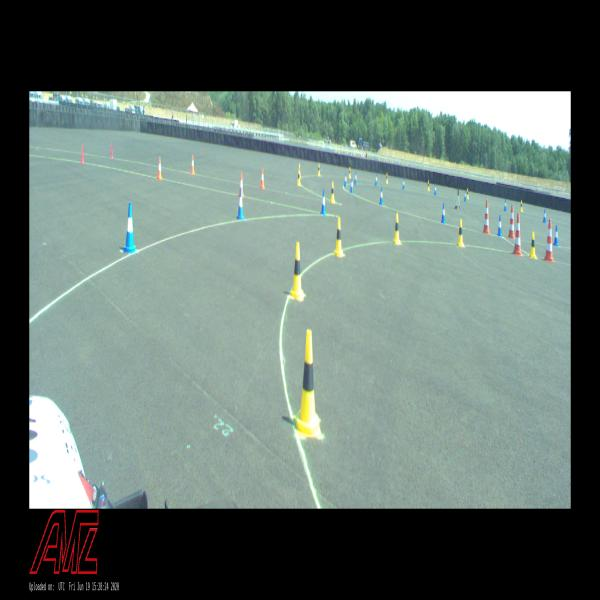blue_cone: (124, 203, 136, 253), (237, 188, 244, 220), (320, 189, 326, 215), (497, 216, 502, 236), (441, 204, 445, 224), (554, 226, 558, 245), (380, 187, 384, 204), (543, 209, 546, 222), (354, 172, 357, 185), (344, 173, 347, 186), (464, 190, 467, 202), (434, 184, 437, 195), (351, 177, 353, 193), (504, 200, 507, 210), (375, 175, 378, 185), (402, 178, 404, 189)
large_orange_cone: (544, 219, 554, 262), (514, 212, 522, 256), (508, 204, 515, 238), (483, 200, 490, 234)
orange_cone: (239, 173, 244, 198), (157, 158, 162, 179), (260, 168, 265, 189), (191, 155, 195, 174)
unknown_cone: (110, 142, 114, 159), (81, 144, 84, 164)
yellow_cone: (296, 329, 319, 434), (291, 242, 304, 299), (334, 217, 343, 256), (393, 213, 401, 244), (457, 219, 464, 247), (530, 232, 536, 258), (330, 181, 335, 203), (298, 169, 301, 186), (520, 201, 523, 212), (427, 180, 430, 190), (299, 163, 301, 178), (318, 163, 320, 176), (349, 167, 351, 178), (467, 188, 469, 199), (386, 173, 388, 183)
